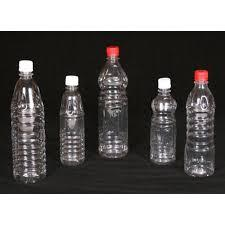Plastic bottle: (8, 57, 50, 182), (100, 45, 131, 161), (55, 71, 85, 170), (188, 68, 214, 176), (149, 79, 180, 167)
